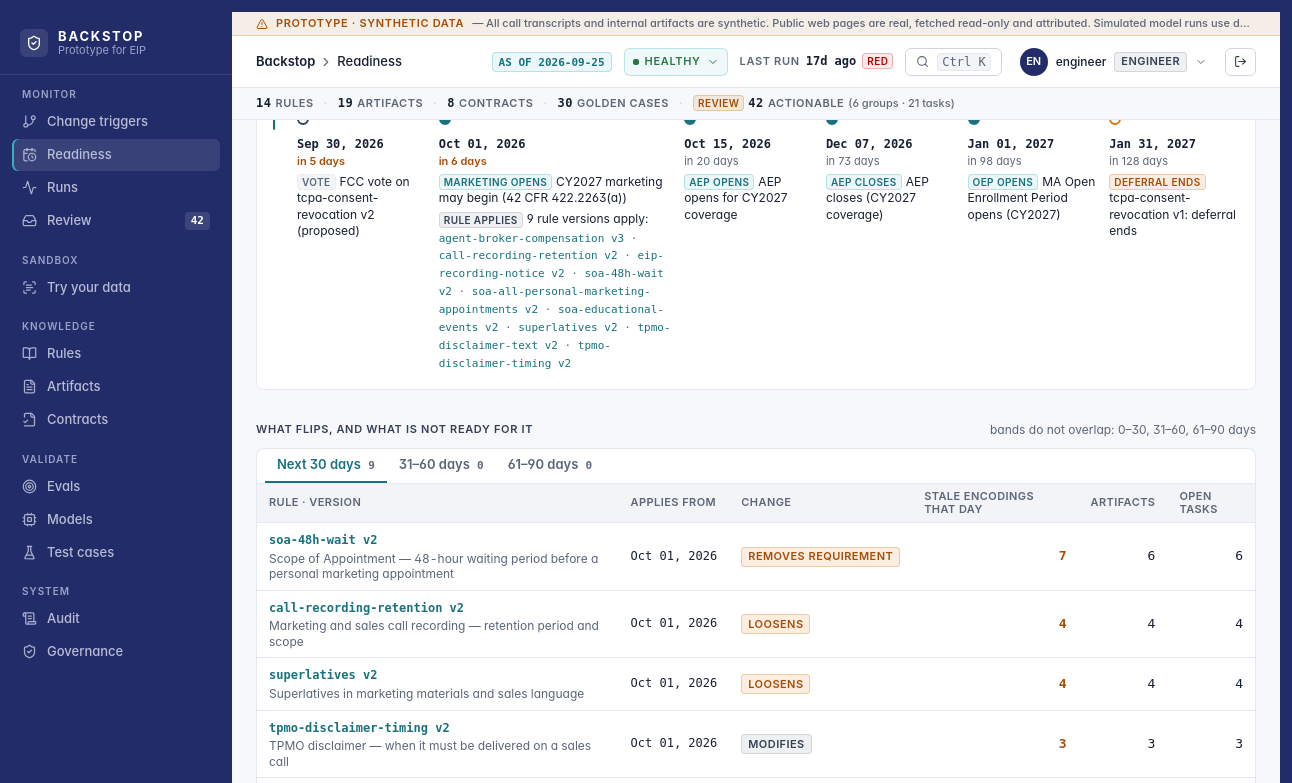
Scenario: screens against the mock API › readiness counts down, lists what flips, ranks owners and names what is not enforced
The image size is (1292, 783).
(page scrolled)
Expected: the link "agent-broker-compensation v3" is shown, [439, 232, 624, 244]
Click the tab "61–90 days 0" at (550, 466), box [496, 448, 604, 482]
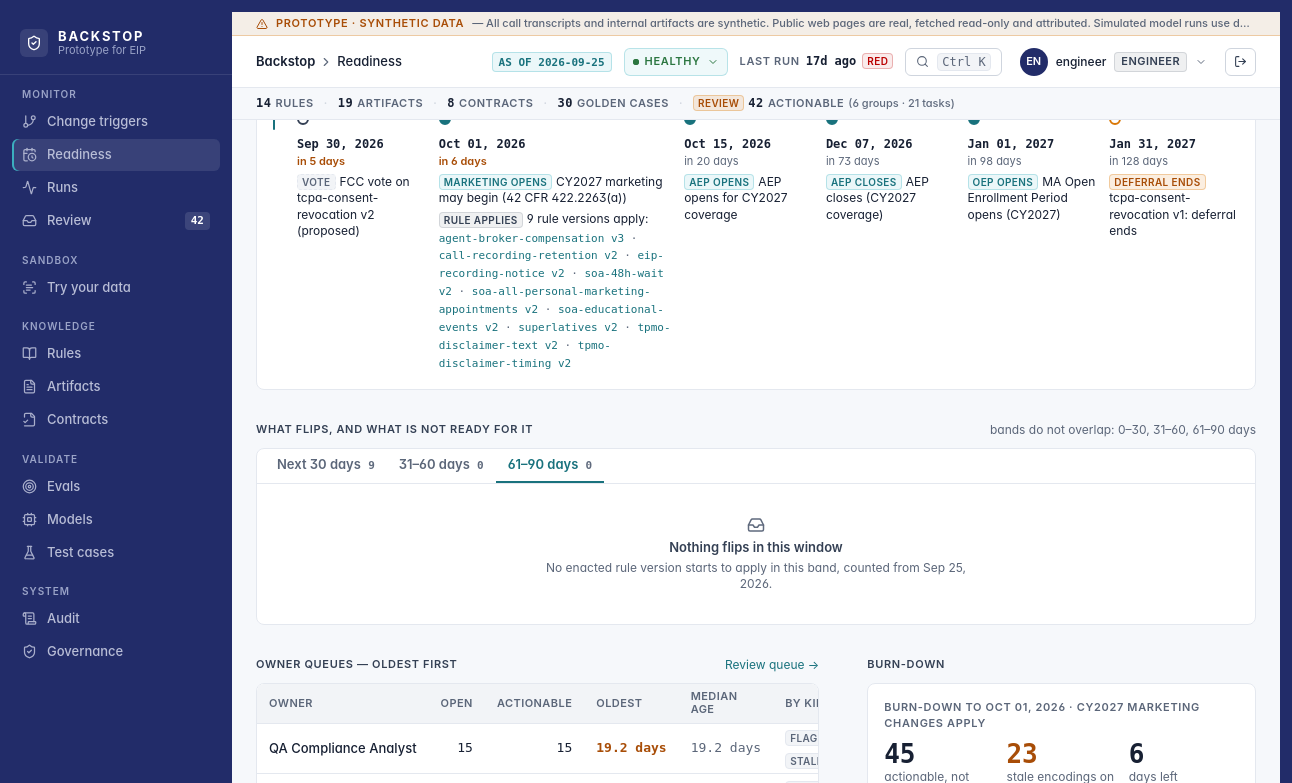
Result: the text "Nothing flips in this window" is shown at [669, 538, 843, 556]
